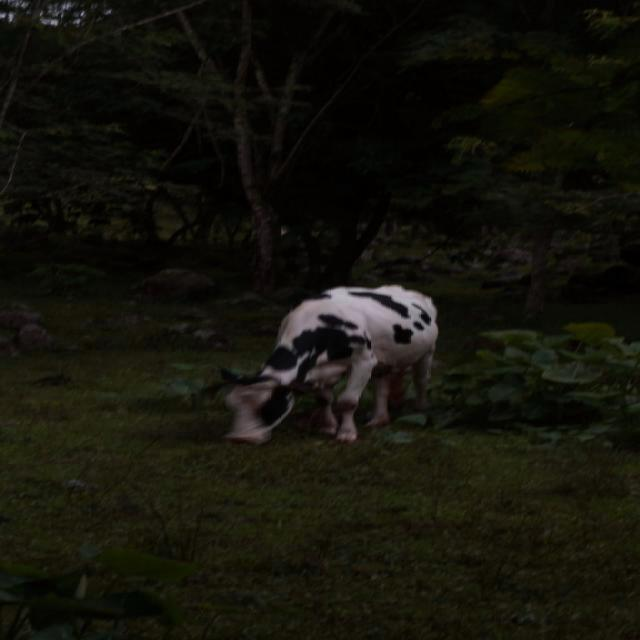cow: (226, 286, 438, 443)
